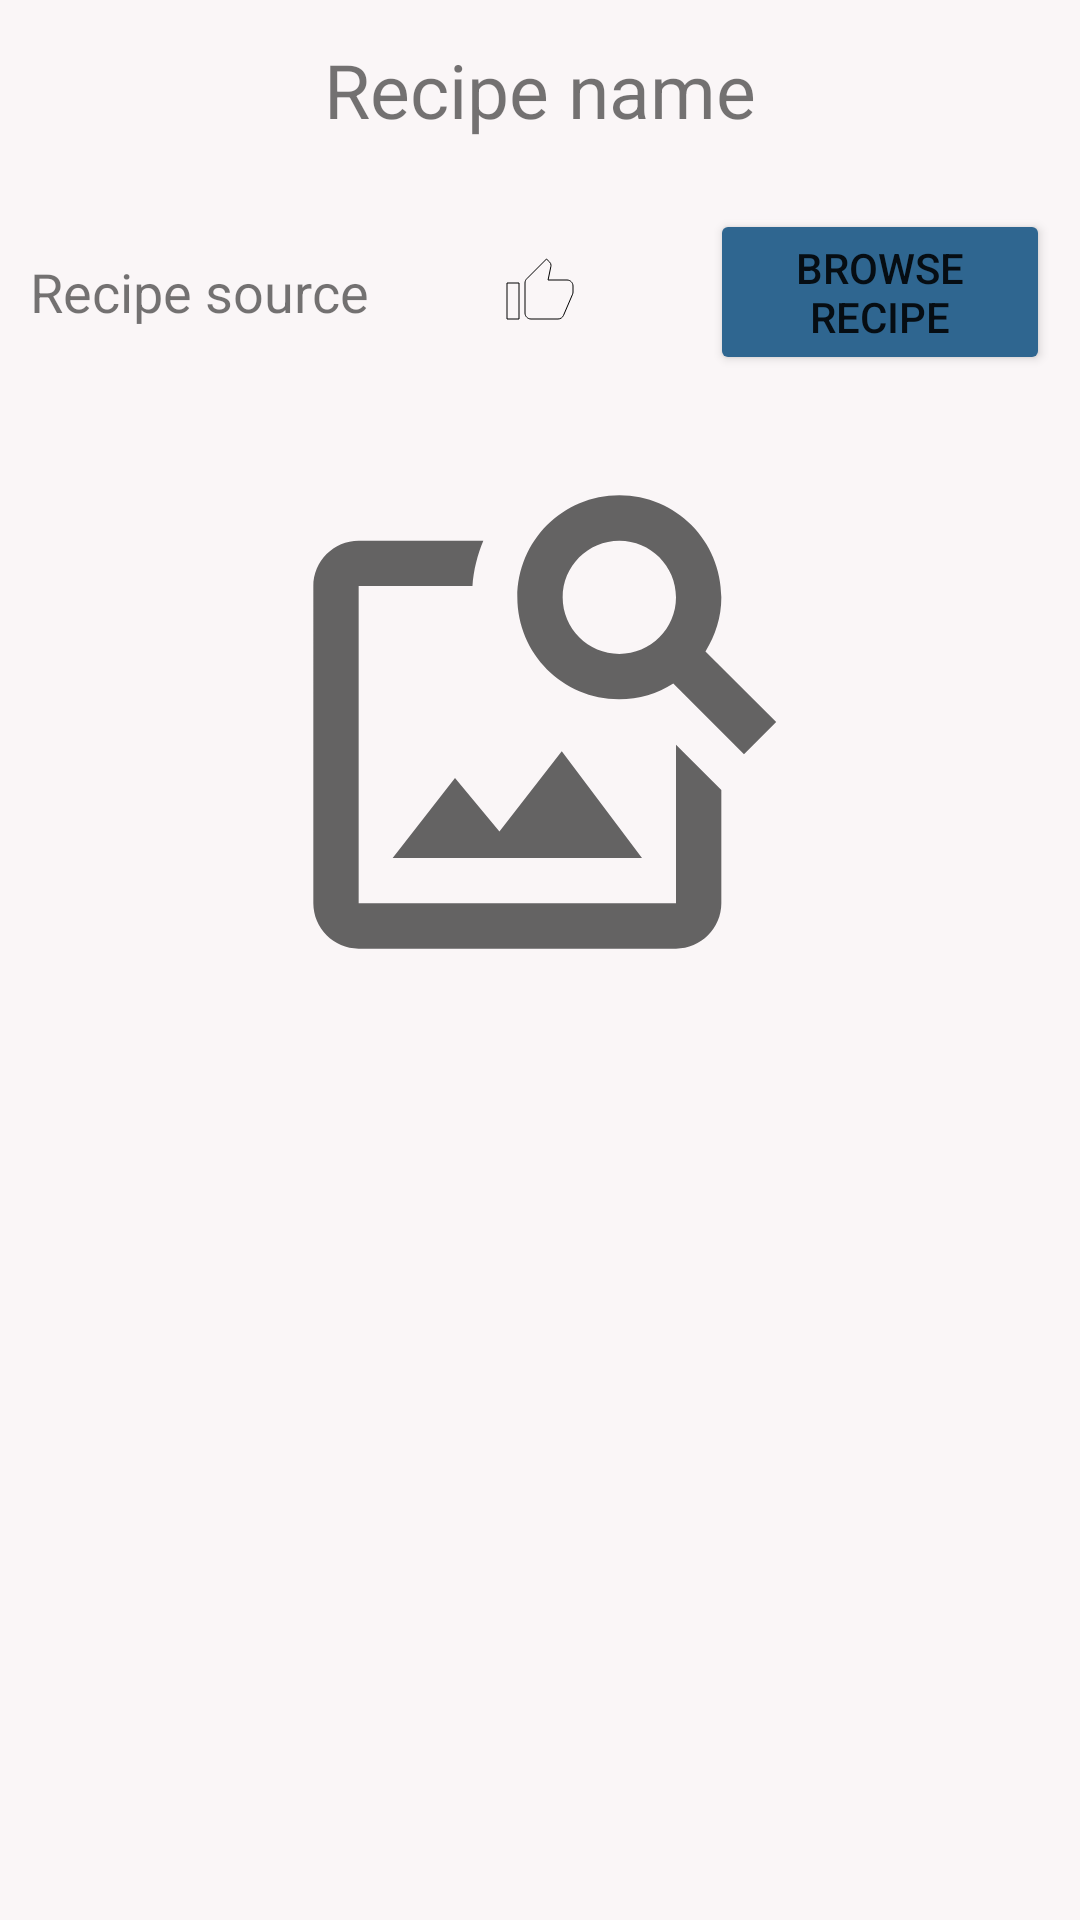

Screen size 1080px x 1920px. Icon name, then its box in pixels as (x1, y1, x2, y2):
like button: (506, 258, 574, 320)
